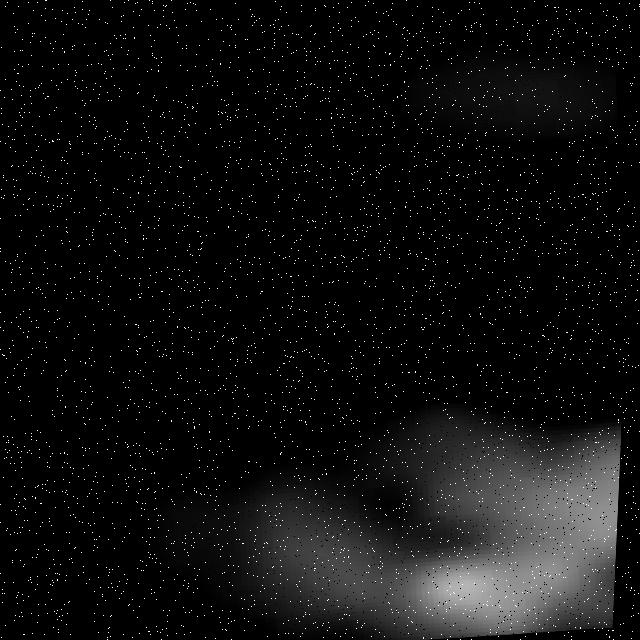person: (166, 386, 628, 640), (293, 6, 626, 176)
